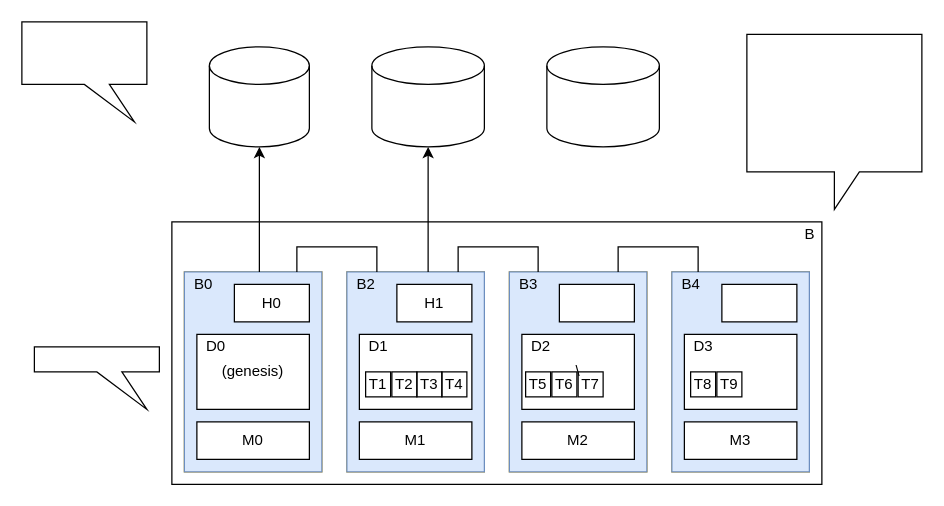
Image size: 944x506. Some labels were removed from this diagram. Here are the shapes that lost their labels. From the top down, the centre of each, then its label:
(x=84, y=71): Level DB 或 Couch DB
(x=258, y=96): 状态数据库
(x=427, y=96): 账本索引数据库
(x=602, y=96): 历史状态数据库
(x=834, y=121): B：区块链 B1：区块 H1：区块头 D1：区块数据 T1：交易数据 M1：区块元数据 H1-H2：区块2指向区块1
(x=596, y=302): H2
(x=759, y=302): H3
(x=96, y=377): 文件系统
